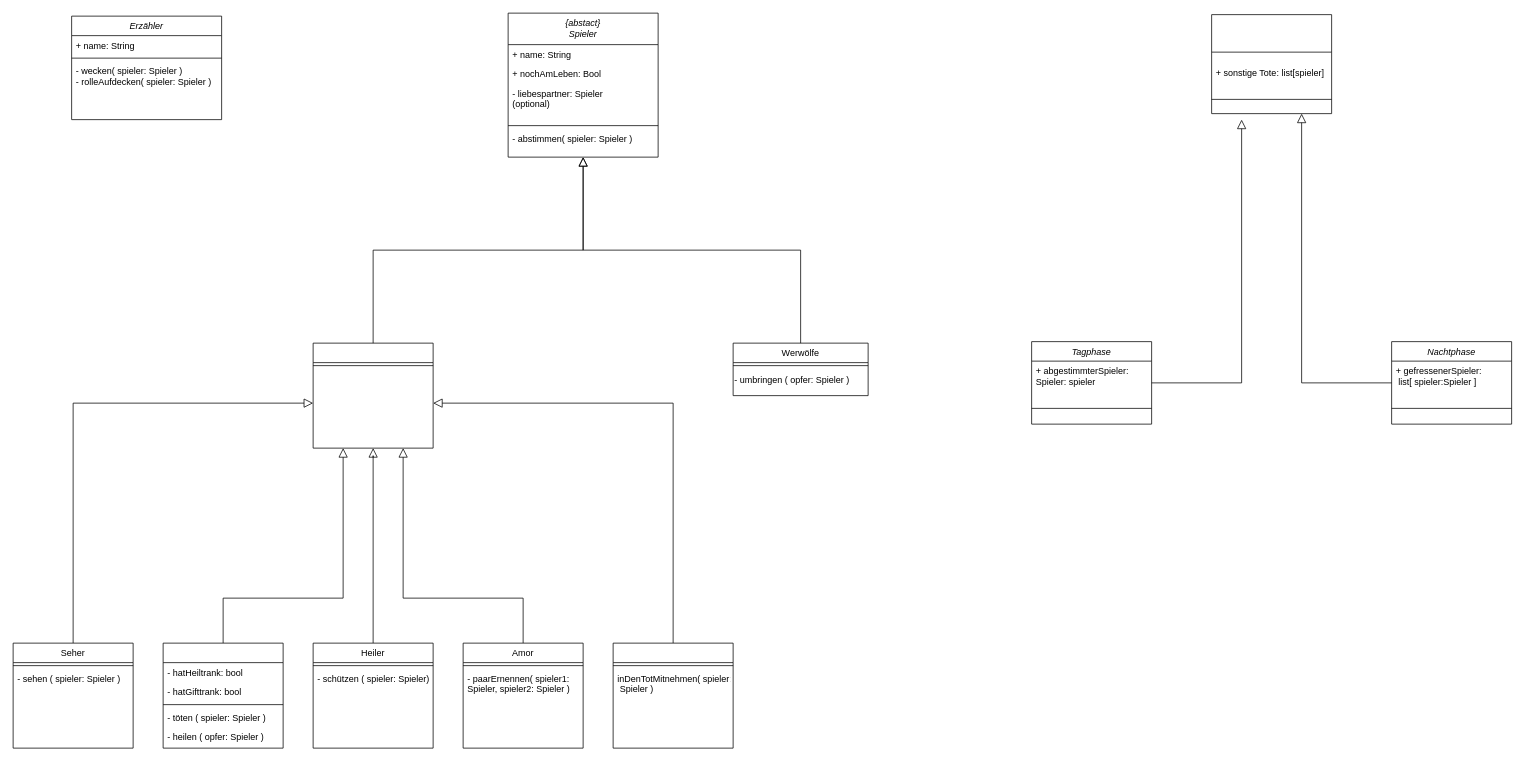
The diagram is 1525 pixels wide and 764 high, and some of its shapes have lost their labels. Here are the shapes that lost their labels. From the top down, the box of each, then its label:
(1211, 14, 1332, 114): {abstract} Phase
(312, 342, 433, 448): Dorfbewohner
(162, 642, 283, 748): Hexe
(612, 642, 733, 748): Jäger
